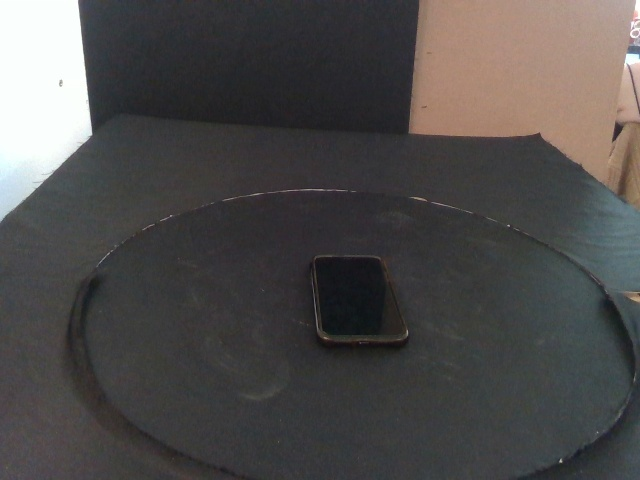phone: (310, 253, 410, 352)
